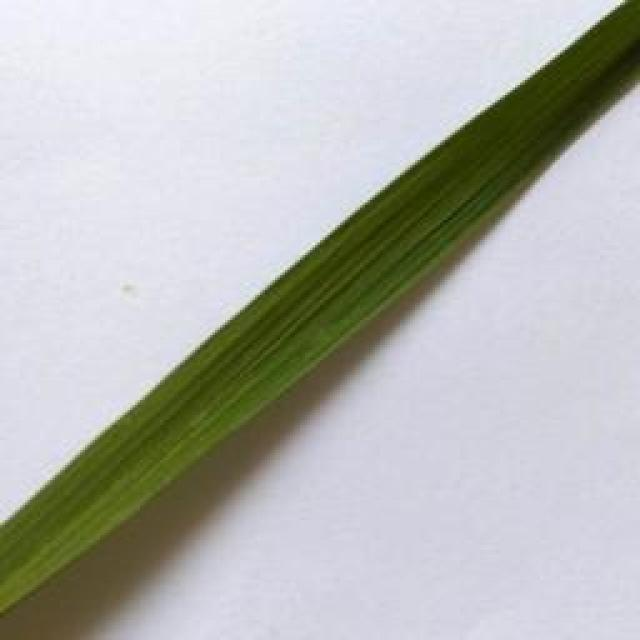Healthy-Plant: (0, 0, 638, 608)
